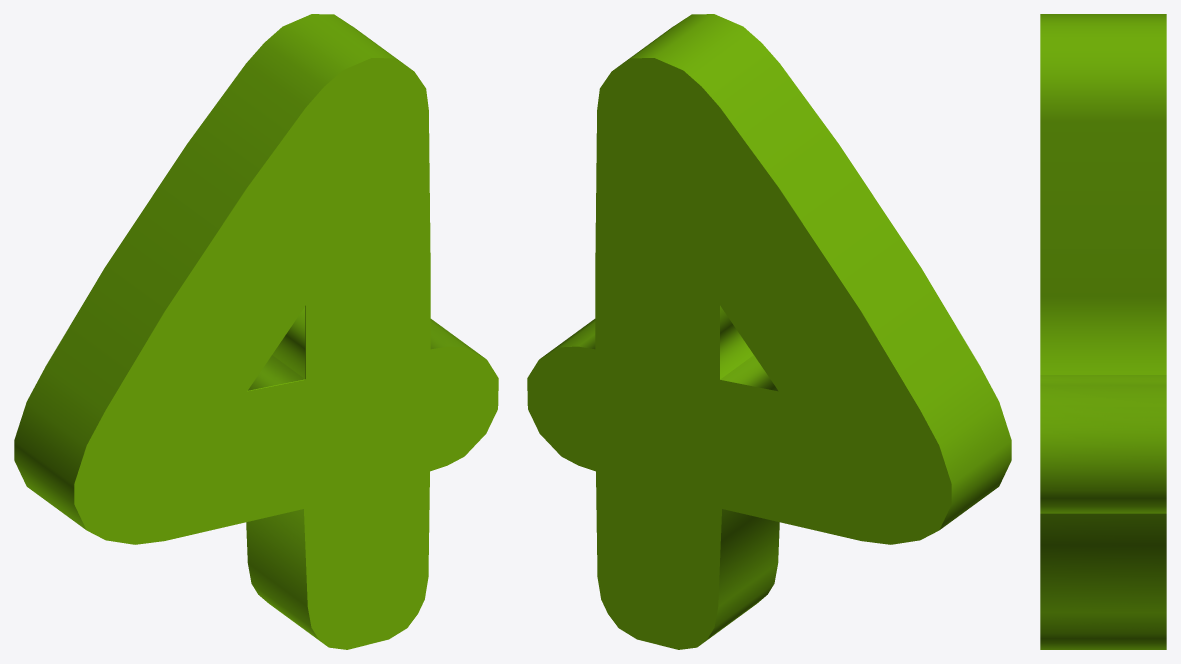
File: number_4.FBX
3 renders of one model, left to right at view 1: azimuth 30°, elevation 25°; view 2: azimuth 150°, elevation 25°; view 3: azimuth 270°, elevation 25°, orthographic. The views are drawn at different scales.
Visible parts, largest first — view 1: number_4; view 2: number_4; view 3: number_4.
Part boxes in pixels (x1,y1,x2,y2): number_4: (14,14,498,649); number_4: (527,14,1011,649); number_4: (1040,14,1166,649).
Bounding box in the file's own units: 27.6 × 36.4 × 6.75.
